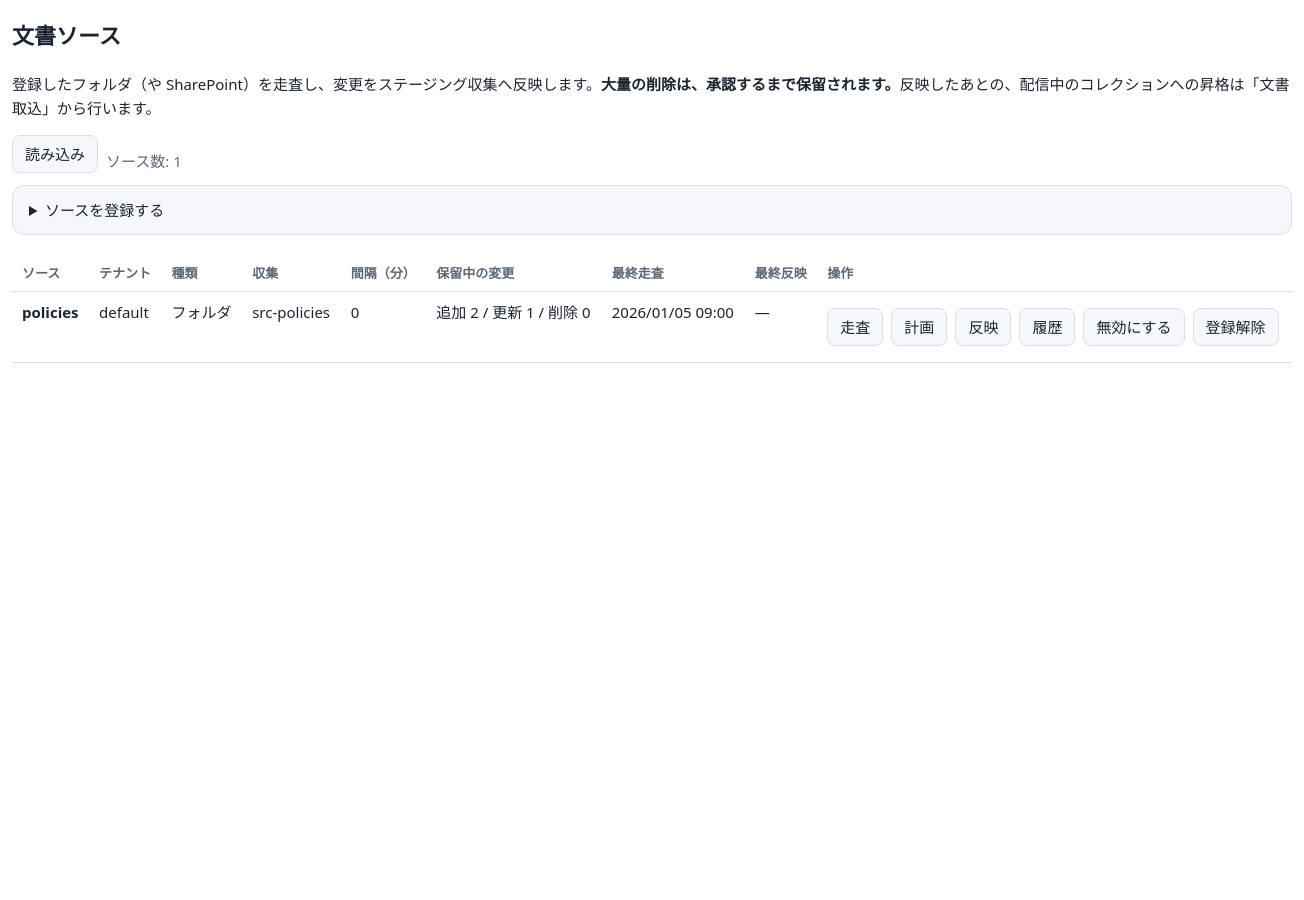
Test: the sources page: scan, plan, history › scans a folder and reloads the list
This screenshot has width=1304, height=900.
What coordinates should you click on to do the following:
click the button with aria-label "走査: policies"
I would click on:
 (855, 328)
Its box is [827, 308, 883, 346].
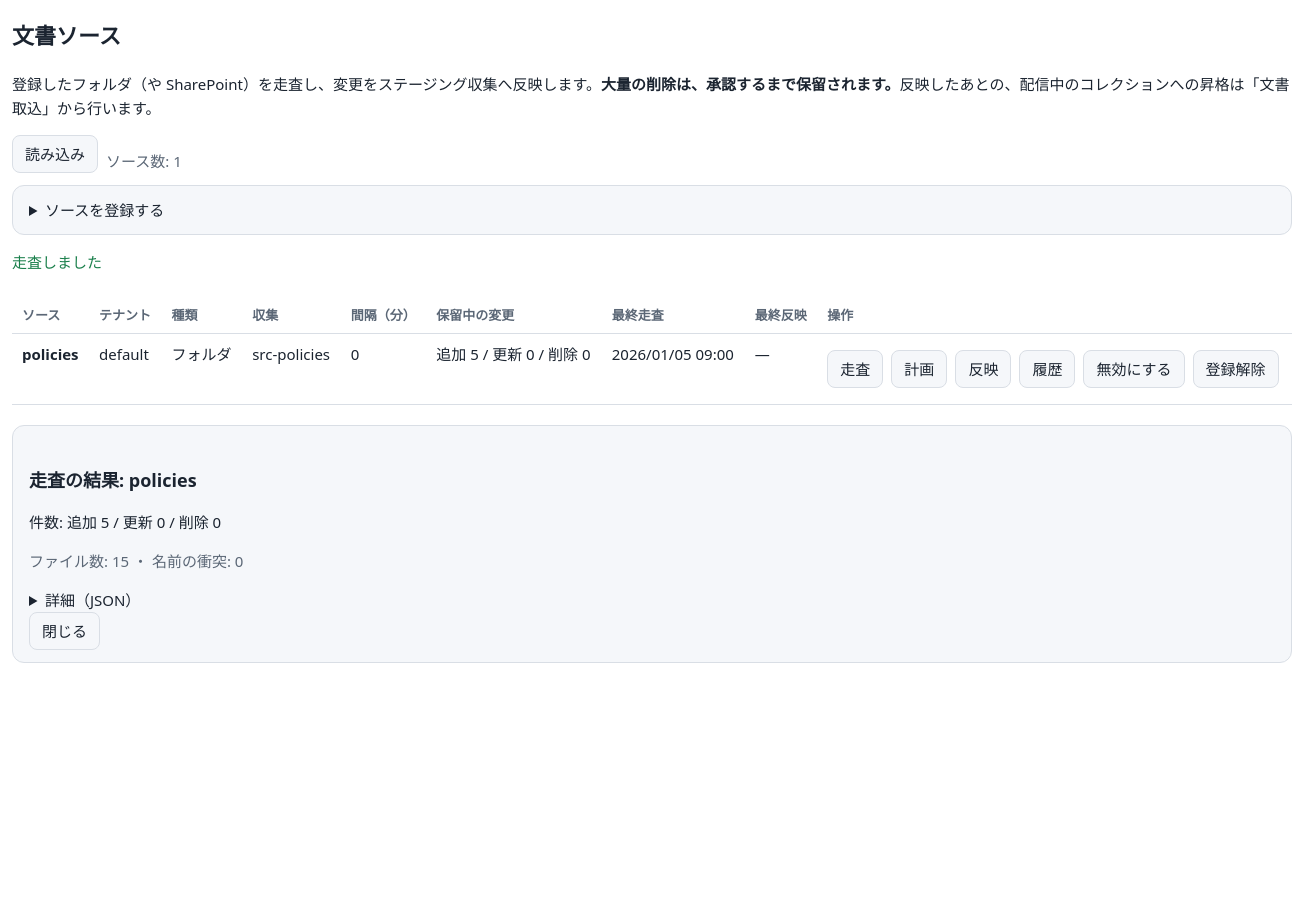
Now the text "走査しました" is shown, box [12, 252, 102, 272]
